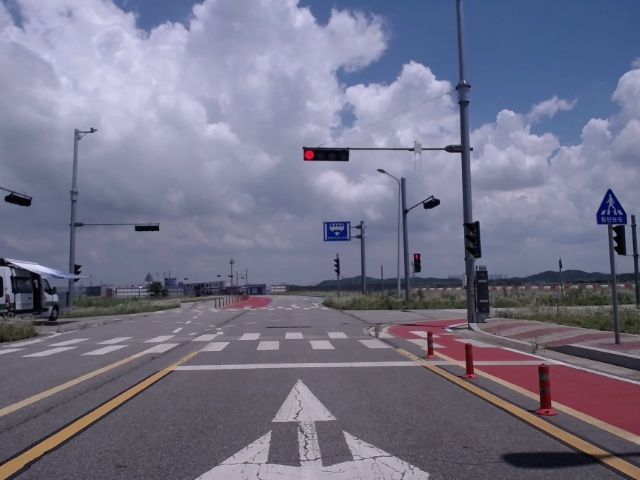red_4: (304, 149, 349, 161)
